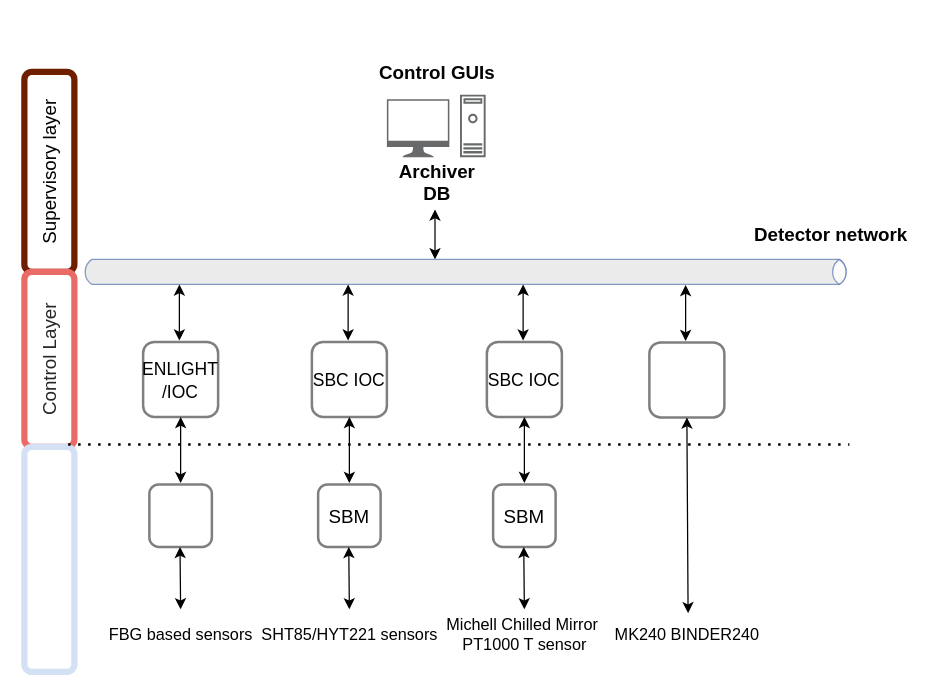
Image size: 946x696. Some labels were removed from this diagram. The centre of each missing label's shape, as x and y in pixels:
Field layer: (x=49, y=558)
Micron Optics SI255: (x=180, y=515)
MODBUS TCP IOC: (x=686, y=379)
